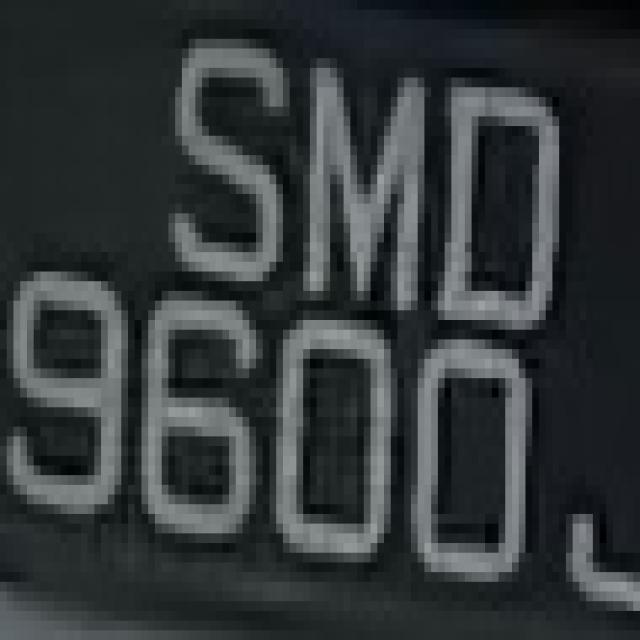0: (263, 310, 411, 621), (398, 310, 532, 602)
6: (148, 291, 256, 553)
9: (13, 223, 142, 553)
D: (424, 68, 580, 330)
M: (283, 49, 431, 349)
S: (168, 19, 283, 291)
